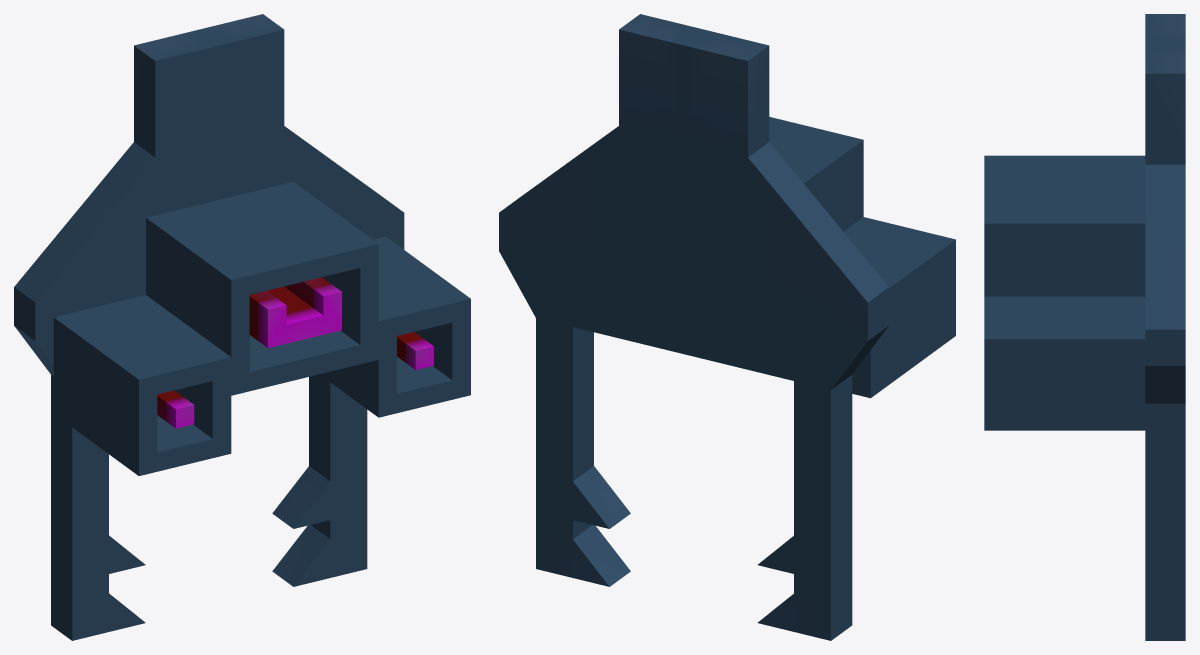
The model's file is azteroid.glb.
3 views of the same model, side by side, from view 1: azimuth 30°, elevation 25°; view 2: azimuth 150°, elevation 25°; view 3: azimuth 270°, elevation 25° (orthographic). The views are drawn at different scales.
Parts seen in each view (by area): view 1: Cube; view 2: Cube; view 3: Cube.
Part boxes in pixels (x1,y1,x2,y2): Cube: (14, 14, 470, 640); Cube: (499, 14, 955, 640); Cube: (984, 14, 1185, 640).
Size of the model in its own units: 0.8333 by 1.21 by 0.4167.
